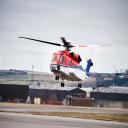helicopter: (19, 32, 119, 91)
